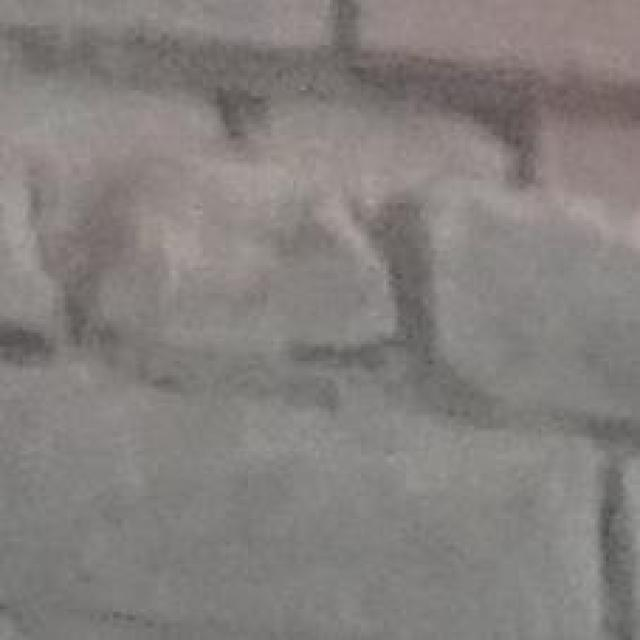Crack: (6, 0, 640, 589)
